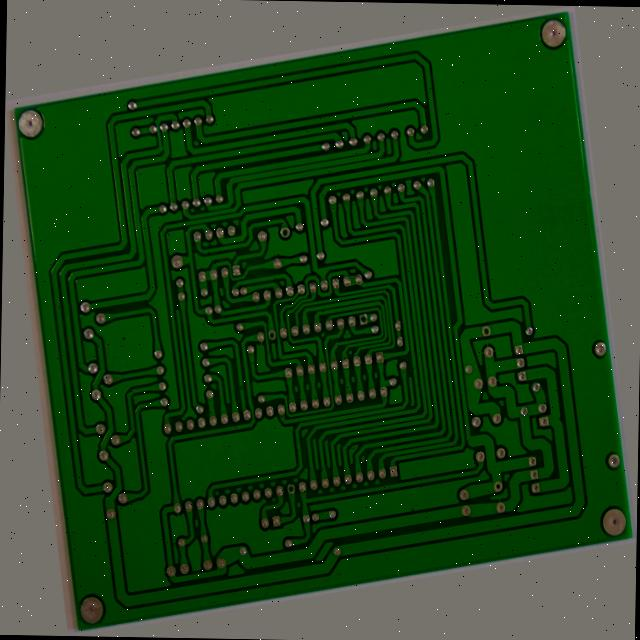missing_hole: (358, 318, 373, 337), (491, 357, 507, 374), (254, 500, 269, 517), (287, 199, 301, 216), (257, 317, 270, 334)
